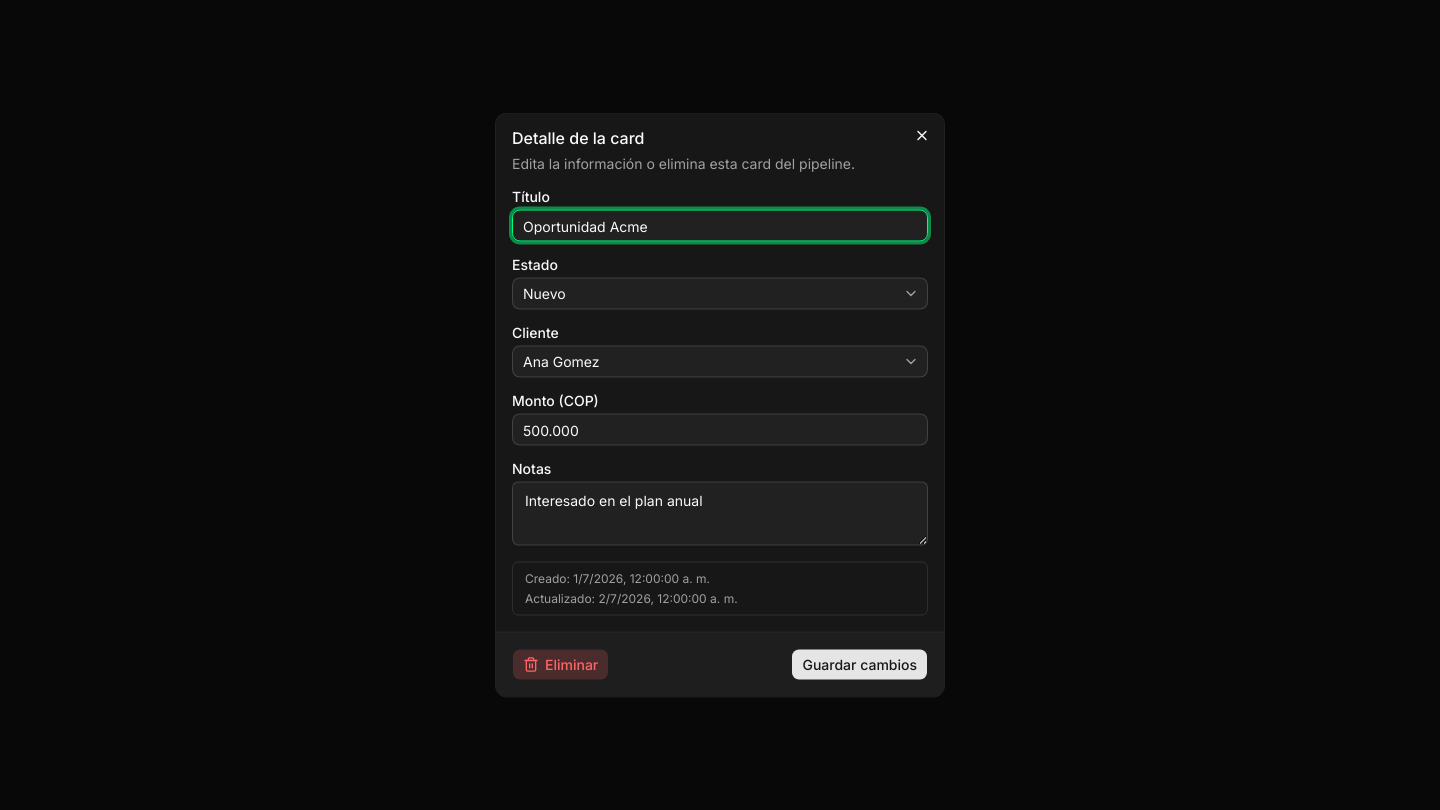
Test case: CardDetailDialogContent › shows the server error message and does not close/refresh when the PATCH fails
Click the button "Guardar cambios": [860, 664] box [792,648,928,680]
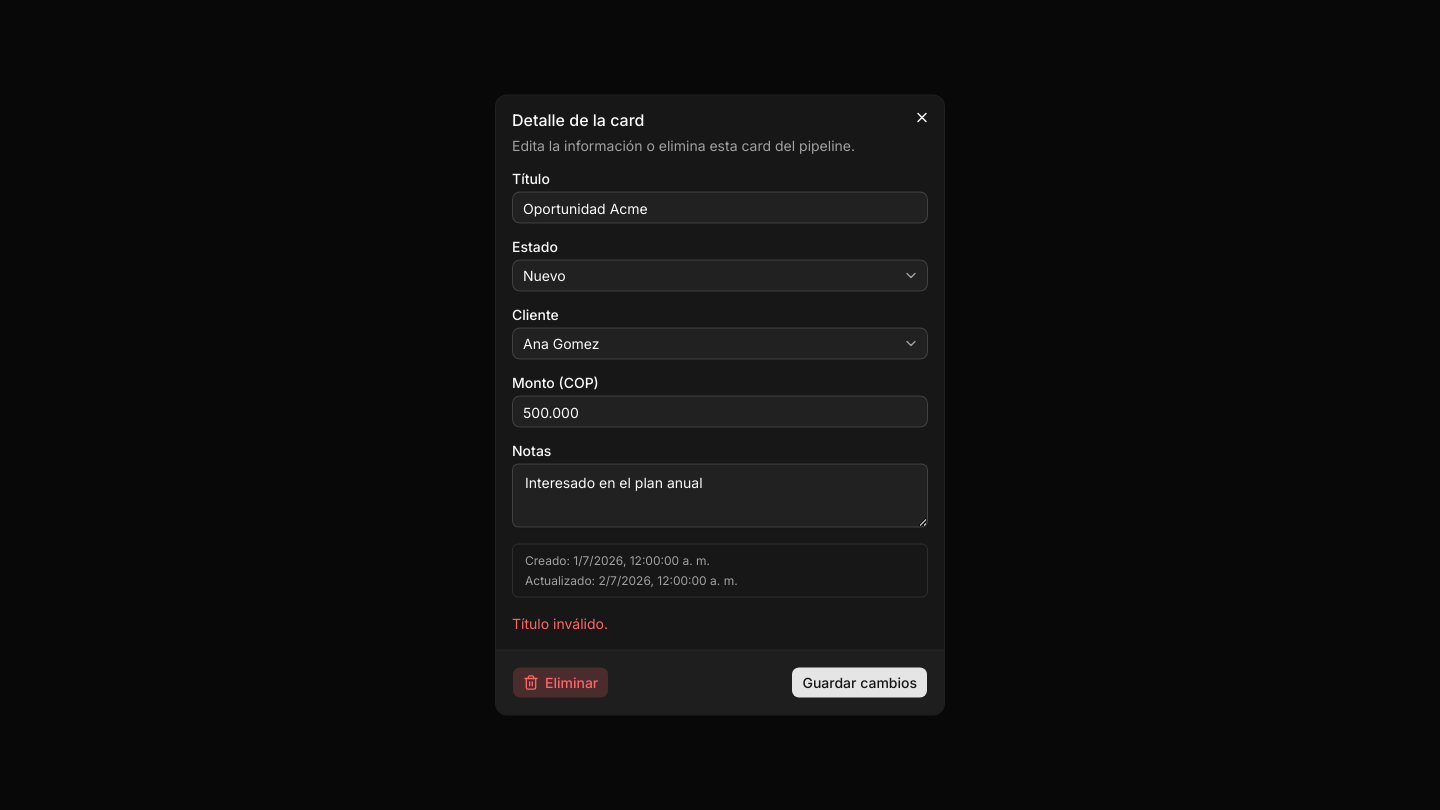
Check: the message reads "Título inválido.", box [512,614,608,632]
